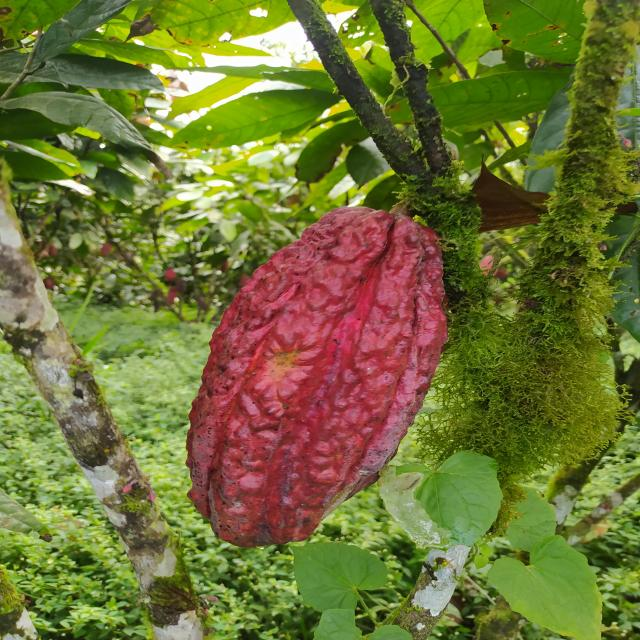Sana: (185, 206, 447, 547)
